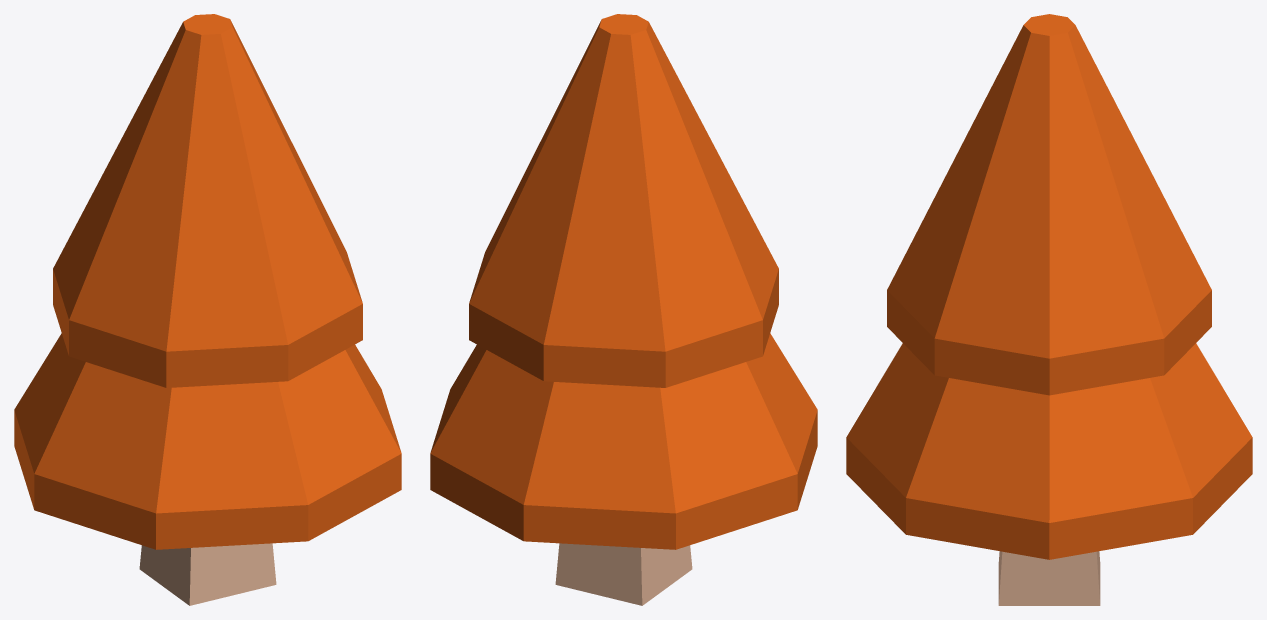
Rendered from autumn_tree.fbx.
3 views of the same model, side by side, from view 1: azimuth 30°, elevation 25°; view 2: azimuth 150°, elevation 25°; view 3: azimuth 270°, elevation 25° (orthographic).
Parts seen in each view (by area): view 1: detail_tree; view 2: detail_tree; view 3: detail_tree.
Part boxes in pixels (bbox=[...]): detail_tree: bbox=[14, 14, 401, 605]; detail_tree: bbox=[430, 14, 817, 605]; detail_tree: bbox=[846, 14, 1252, 605].
Bounding box in the file's own units: 35 × 53.2 × 35.
